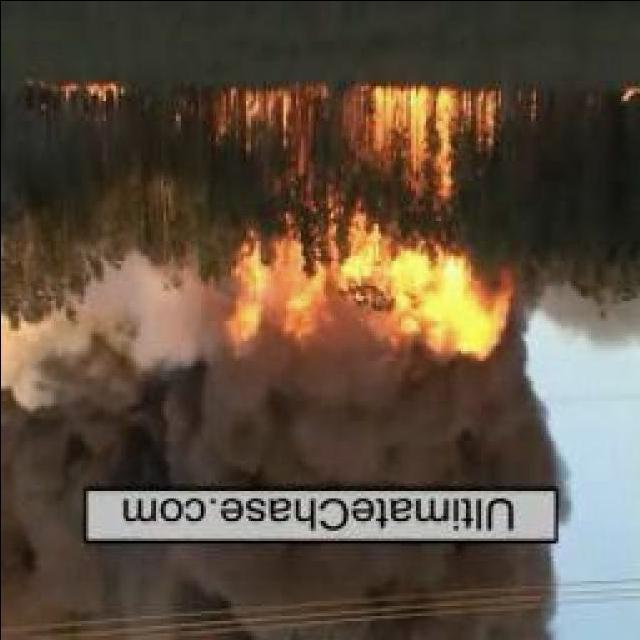Fire: (220, 82, 514, 360), (52, 82, 123, 112)
